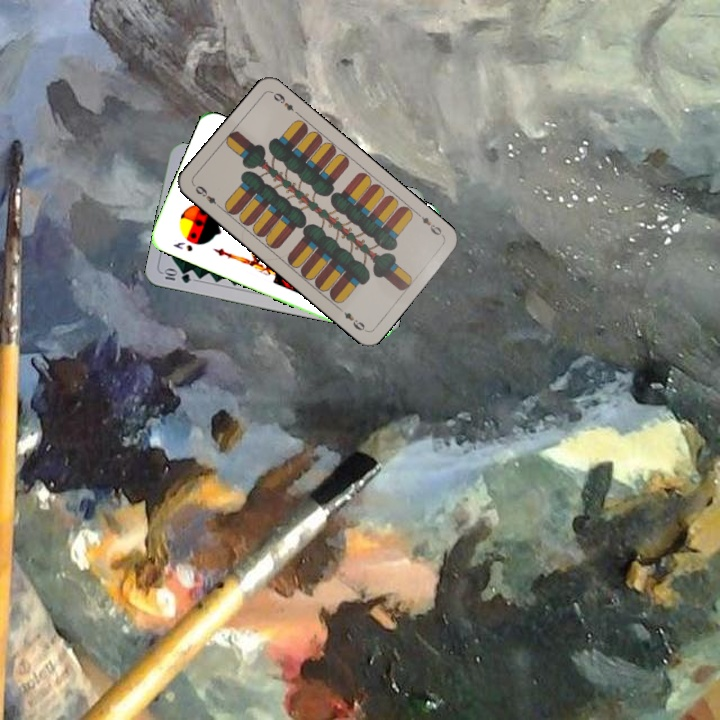E9: (413, 209, 447, 240), (191, 182, 224, 211)
G10: (159, 265, 194, 286)
SK: (169, 238, 195, 254)
